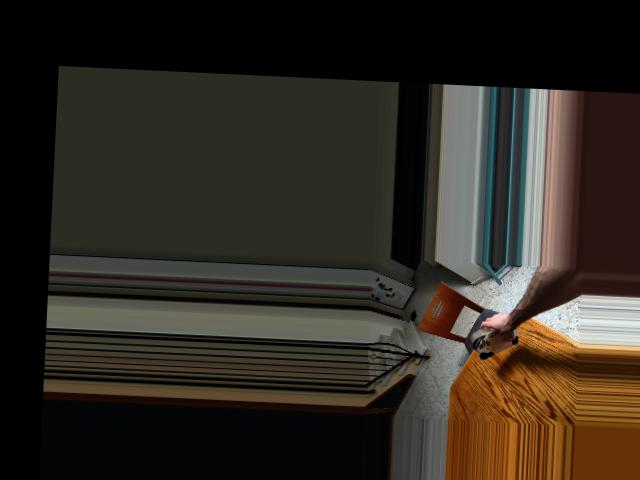cheese: (469, 312, 523, 361)
